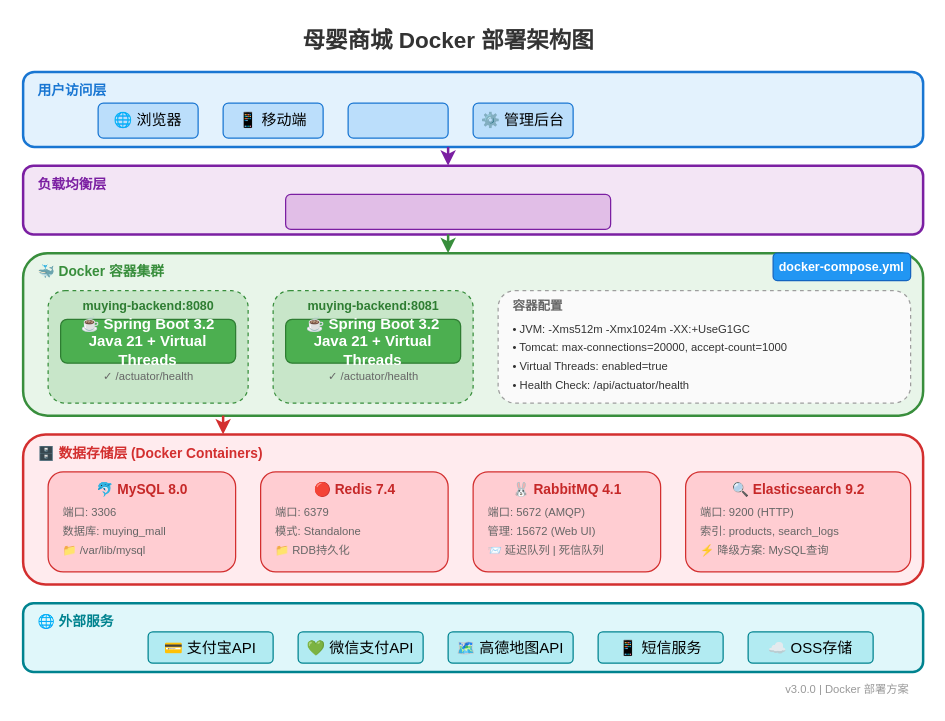
Some shapes in this 945 by 721 pixel diagram are drawn without their labels. Each missing label, with the box of its shape:
🔀 Nginx 反向代理 | SSL | 静态资源: (284, 193, 611, 229)
🔷 小程序: (347, 102, 448, 138)
